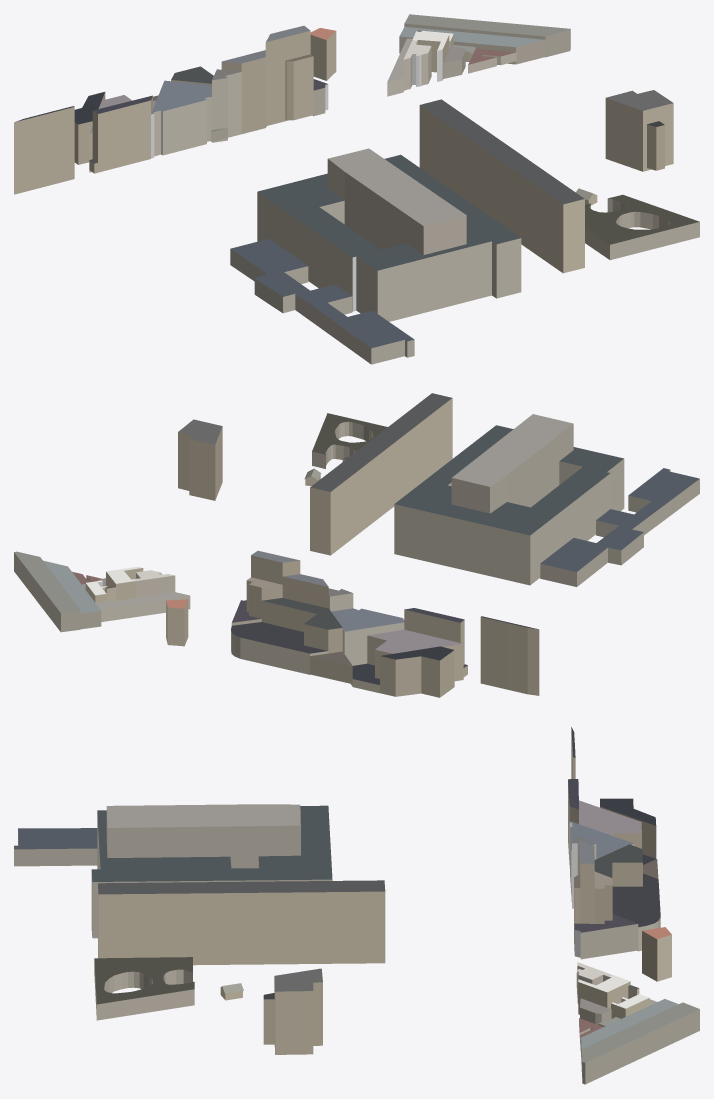
The picture shows the model from 3 angles, top to bottom: view 1: azimuth 30°, elevation 25°; view 2: azimuth 150°, elevation 25°; view 3: azimuth 270°, elevation 25°; orthographic projection. The views are drawn at different scales.
Parts seen in each view (by area): view 1: tuile; view 2: tuile; view 3: tuile.
Part boxes in pixels (x1=…): tuile: x1=14, y1=14, x2=699, y2=364; tuile: x1=14, y1=393, x2=699, y2=697; tuile: x1=14, y1=727, x2=699, y2=1084.
Bounding box in the file's own units: 284 × 42.18 × 288.
